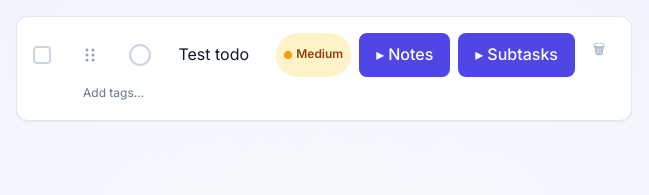
TodoItem › renders subtask section with accent border wrapper when expanded
This screenshot has width=649, height=195.
Click the button with aria-label "toggle subtasks" at (517, 55), box [458,33,575,77]
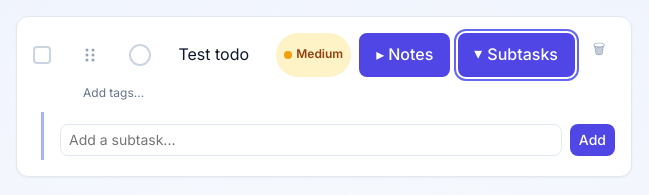
Expected: the element with class "subtask-section" is shown, [41,112,615,160]
